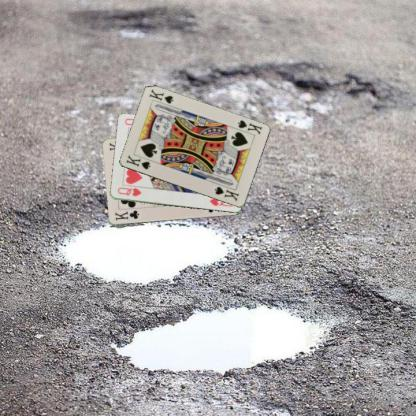Kc: (113, 208, 140, 222)
Ks: (234, 117, 263, 136), (123, 153, 151, 171)
Qh: (115, 185, 142, 197)
